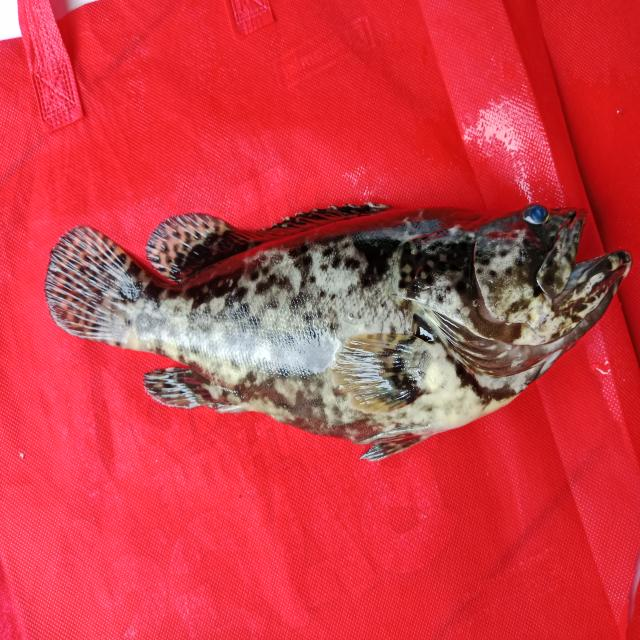ikan: (39, 168, 632, 464)
